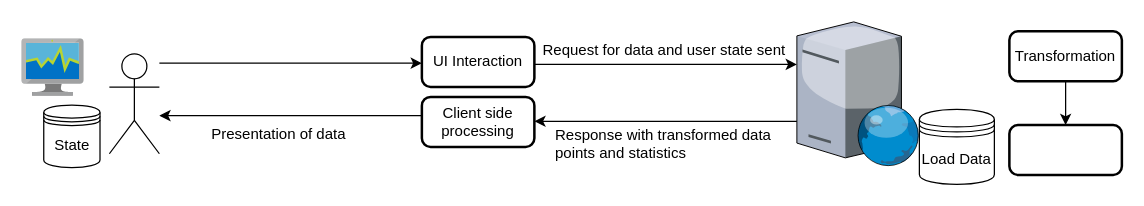
Some shapes in this 1144 by 206 pixel diagram are drawn without their labels. The centre of each missing label's shape, as x and y in pixels:
Actor: the point at 133,103
Logic: the point at 1065,149
